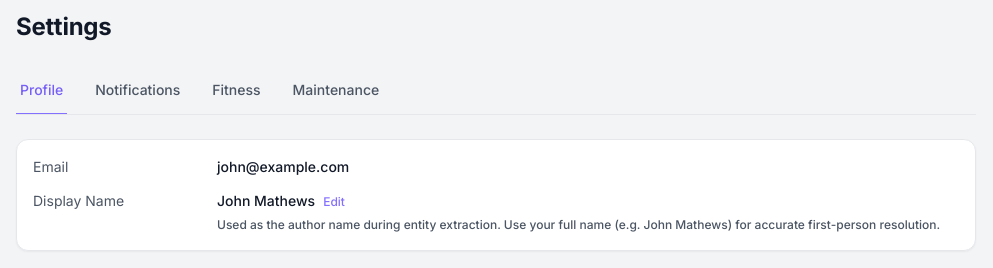
SettingsView › clicking Edit shows input with current name
Click the button with test id "display-name-edit-btn" at (334, 202), box top-left (323, 193), bottom-right (345, 211)
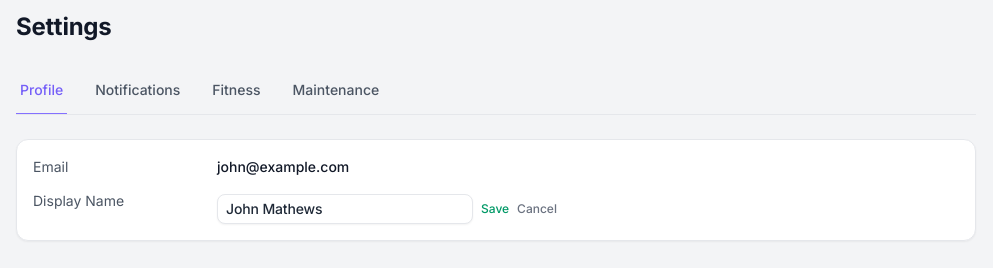
Now the field with test id "display-name-input" holds "John Mathews", box top-left (217, 194), bottom-right (473, 224)
